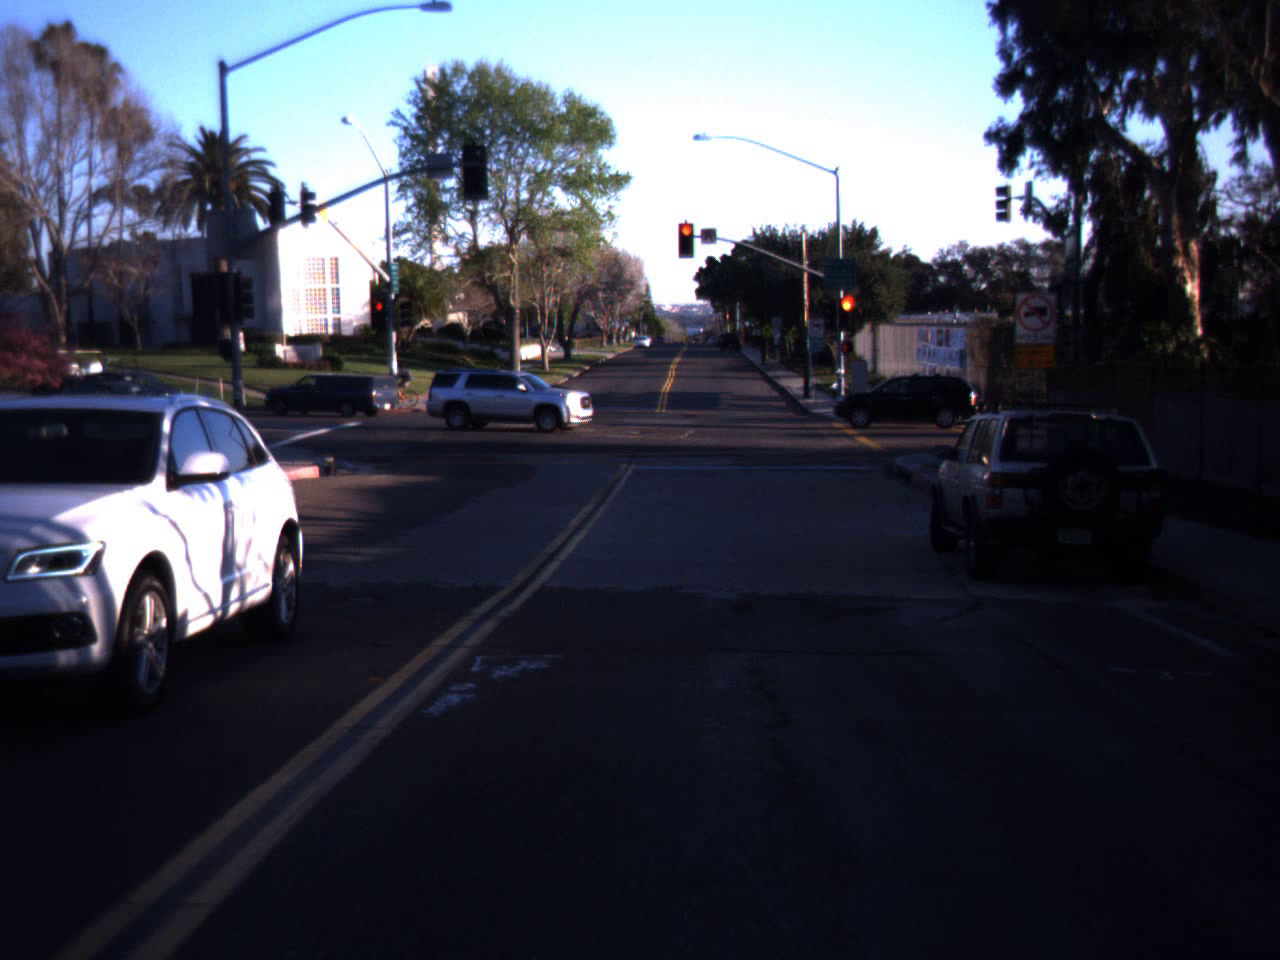stop: (830, 289, 866, 347), (676, 224, 697, 255), (374, 301, 386, 323)
